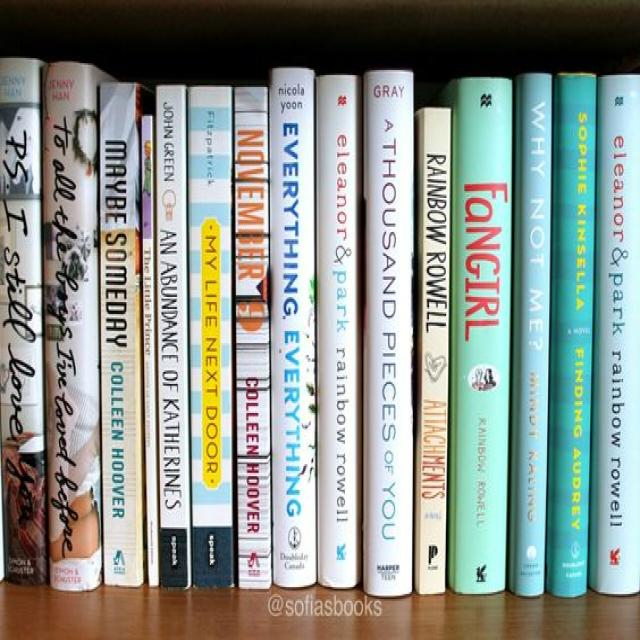book: (453, 79, 513, 592), (41, 63, 94, 592), (546, 74, 597, 593), (364, 72, 414, 596), (593, 74, 640, 592), (0, 55, 45, 584), (189, 84, 233, 586), (272, 68, 313, 590), (316, 76, 357, 588), (99, 80, 140, 584), (512, 72, 551, 596), (236, 84, 271, 591), (156, 85, 189, 588), (419, 110, 452, 596), (141, 116, 160, 588)
